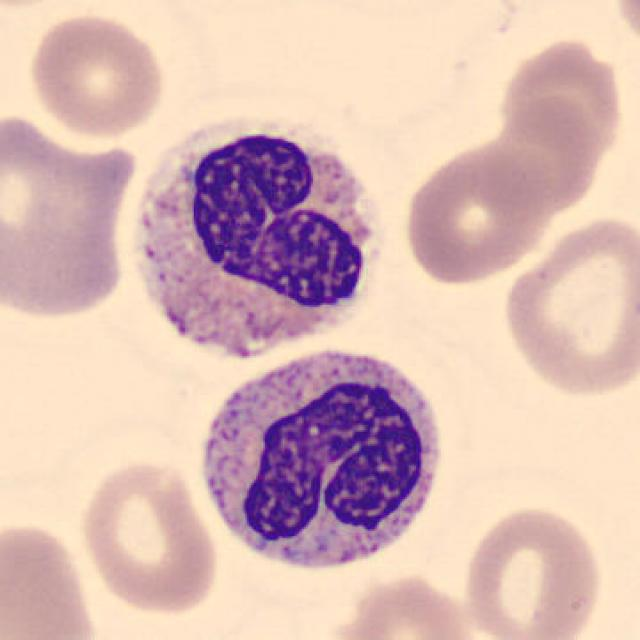Neutrophil: (126, 102, 404, 378), (192, 337, 455, 587)
RBC: (0, 107, 140, 326), (496, 210, 638, 402), (75, 455, 222, 619), (398, 139, 553, 289), (458, 500, 606, 640), (23, 9, 169, 141), (475, 88, 603, 231), (494, 33, 630, 164), (0, 516, 101, 640), (331, 569, 480, 640), (610, 0, 640, 58), (0, 0, 82, 16)
